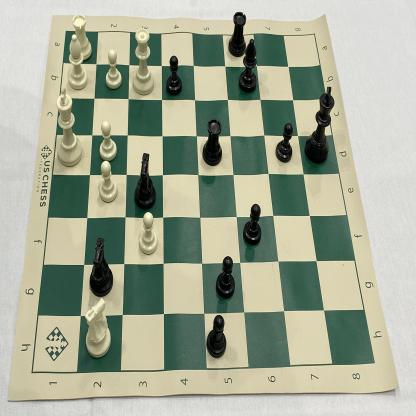black-bishop: (238, 35, 260, 97)
black-king: (303, 82, 339, 167)
black-knight: (87, 233, 118, 301), (132, 150, 159, 214)
black-pawn: (205, 311, 229, 360), (214, 253, 238, 301), (241, 200, 264, 249), (275, 119, 295, 166), (165, 54, 186, 98)
black-rook: (200, 115, 225, 171), (226, 5, 249, 61)
white-bishop: (65, 31, 89, 92)
white-king: (51, 85, 87, 169)
white-knight: (80, 295, 115, 361)
white-pawn: (136, 211, 161, 257), (96, 159, 119, 206), (103, 46, 124, 92), (97, 118, 118, 163)
white-queen: (130, 22, 159, 98)
white-rook: (70, 11, 95, 63)
